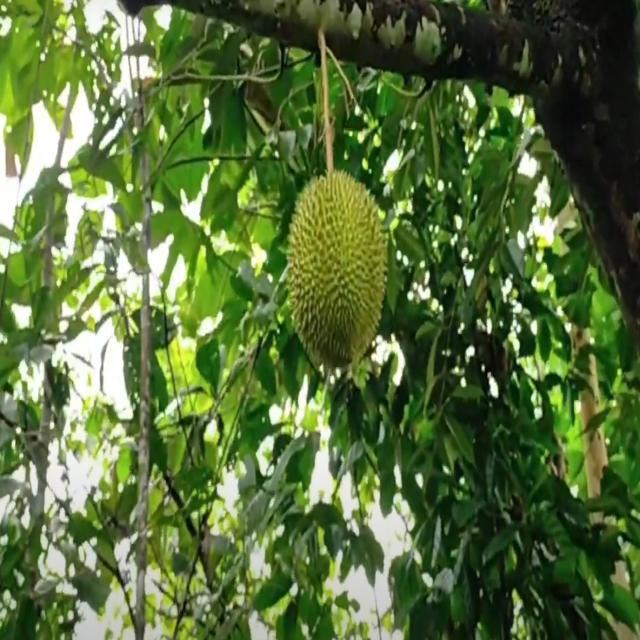immature: (285, 168, 390, 377)
